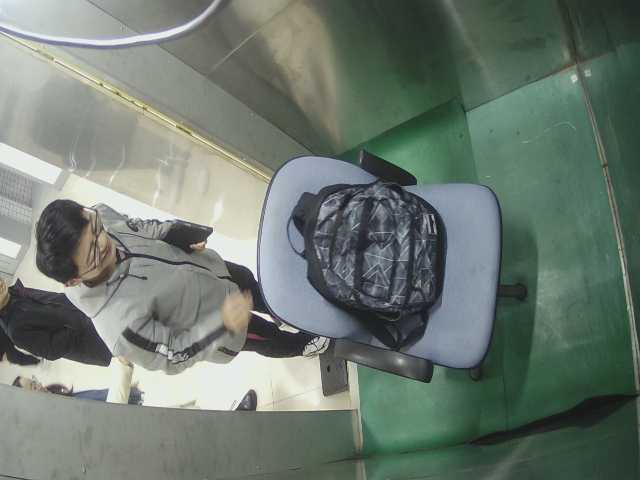bag: (297, 175, 457, 333)
chair: (256, 146, 530, 387)
person: (23, 192, 334, 390)
